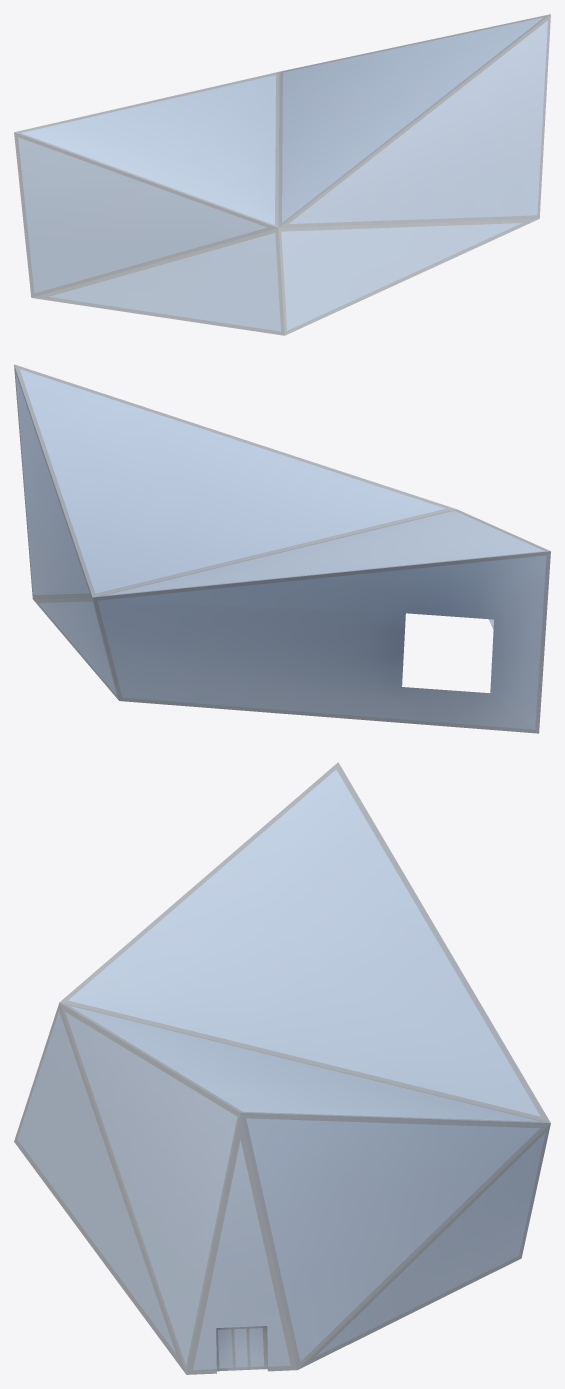
The picture shows the model from 3 angles, top to bottom: view 1: azimuth 30°, elevation 25°; view 2: azimuth 150°, elevation 25°; view 3: azimuth 270°, elevation 25°; orthographic projection. The views are drawn at different scales.
Visible parts, largest first — view 1: 70030076431358207; view 2: 70030076431358207; view 3: 70030076431358207.
Part boxes in pixels (x1=…): 70030076431358207: x1=14, y1=14, x2=550, y2=335; 70030076431358207: x1=14, y1=364, x2=550, y2=733; 70030076431358207: x1=14, y1=762, x2=550, y2=1374.
Size of the model in its own units: 47.42 by 16.57 by 28.43.
1 material, 1 textured.
